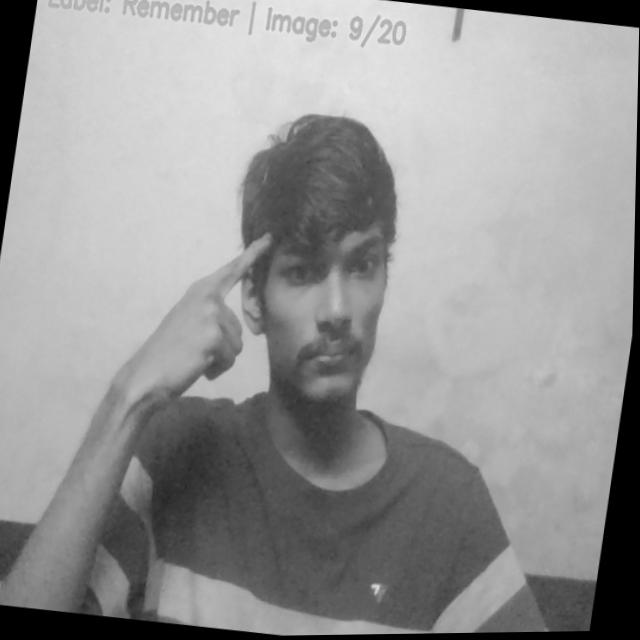Remember: (107, 213, 278, 420)
